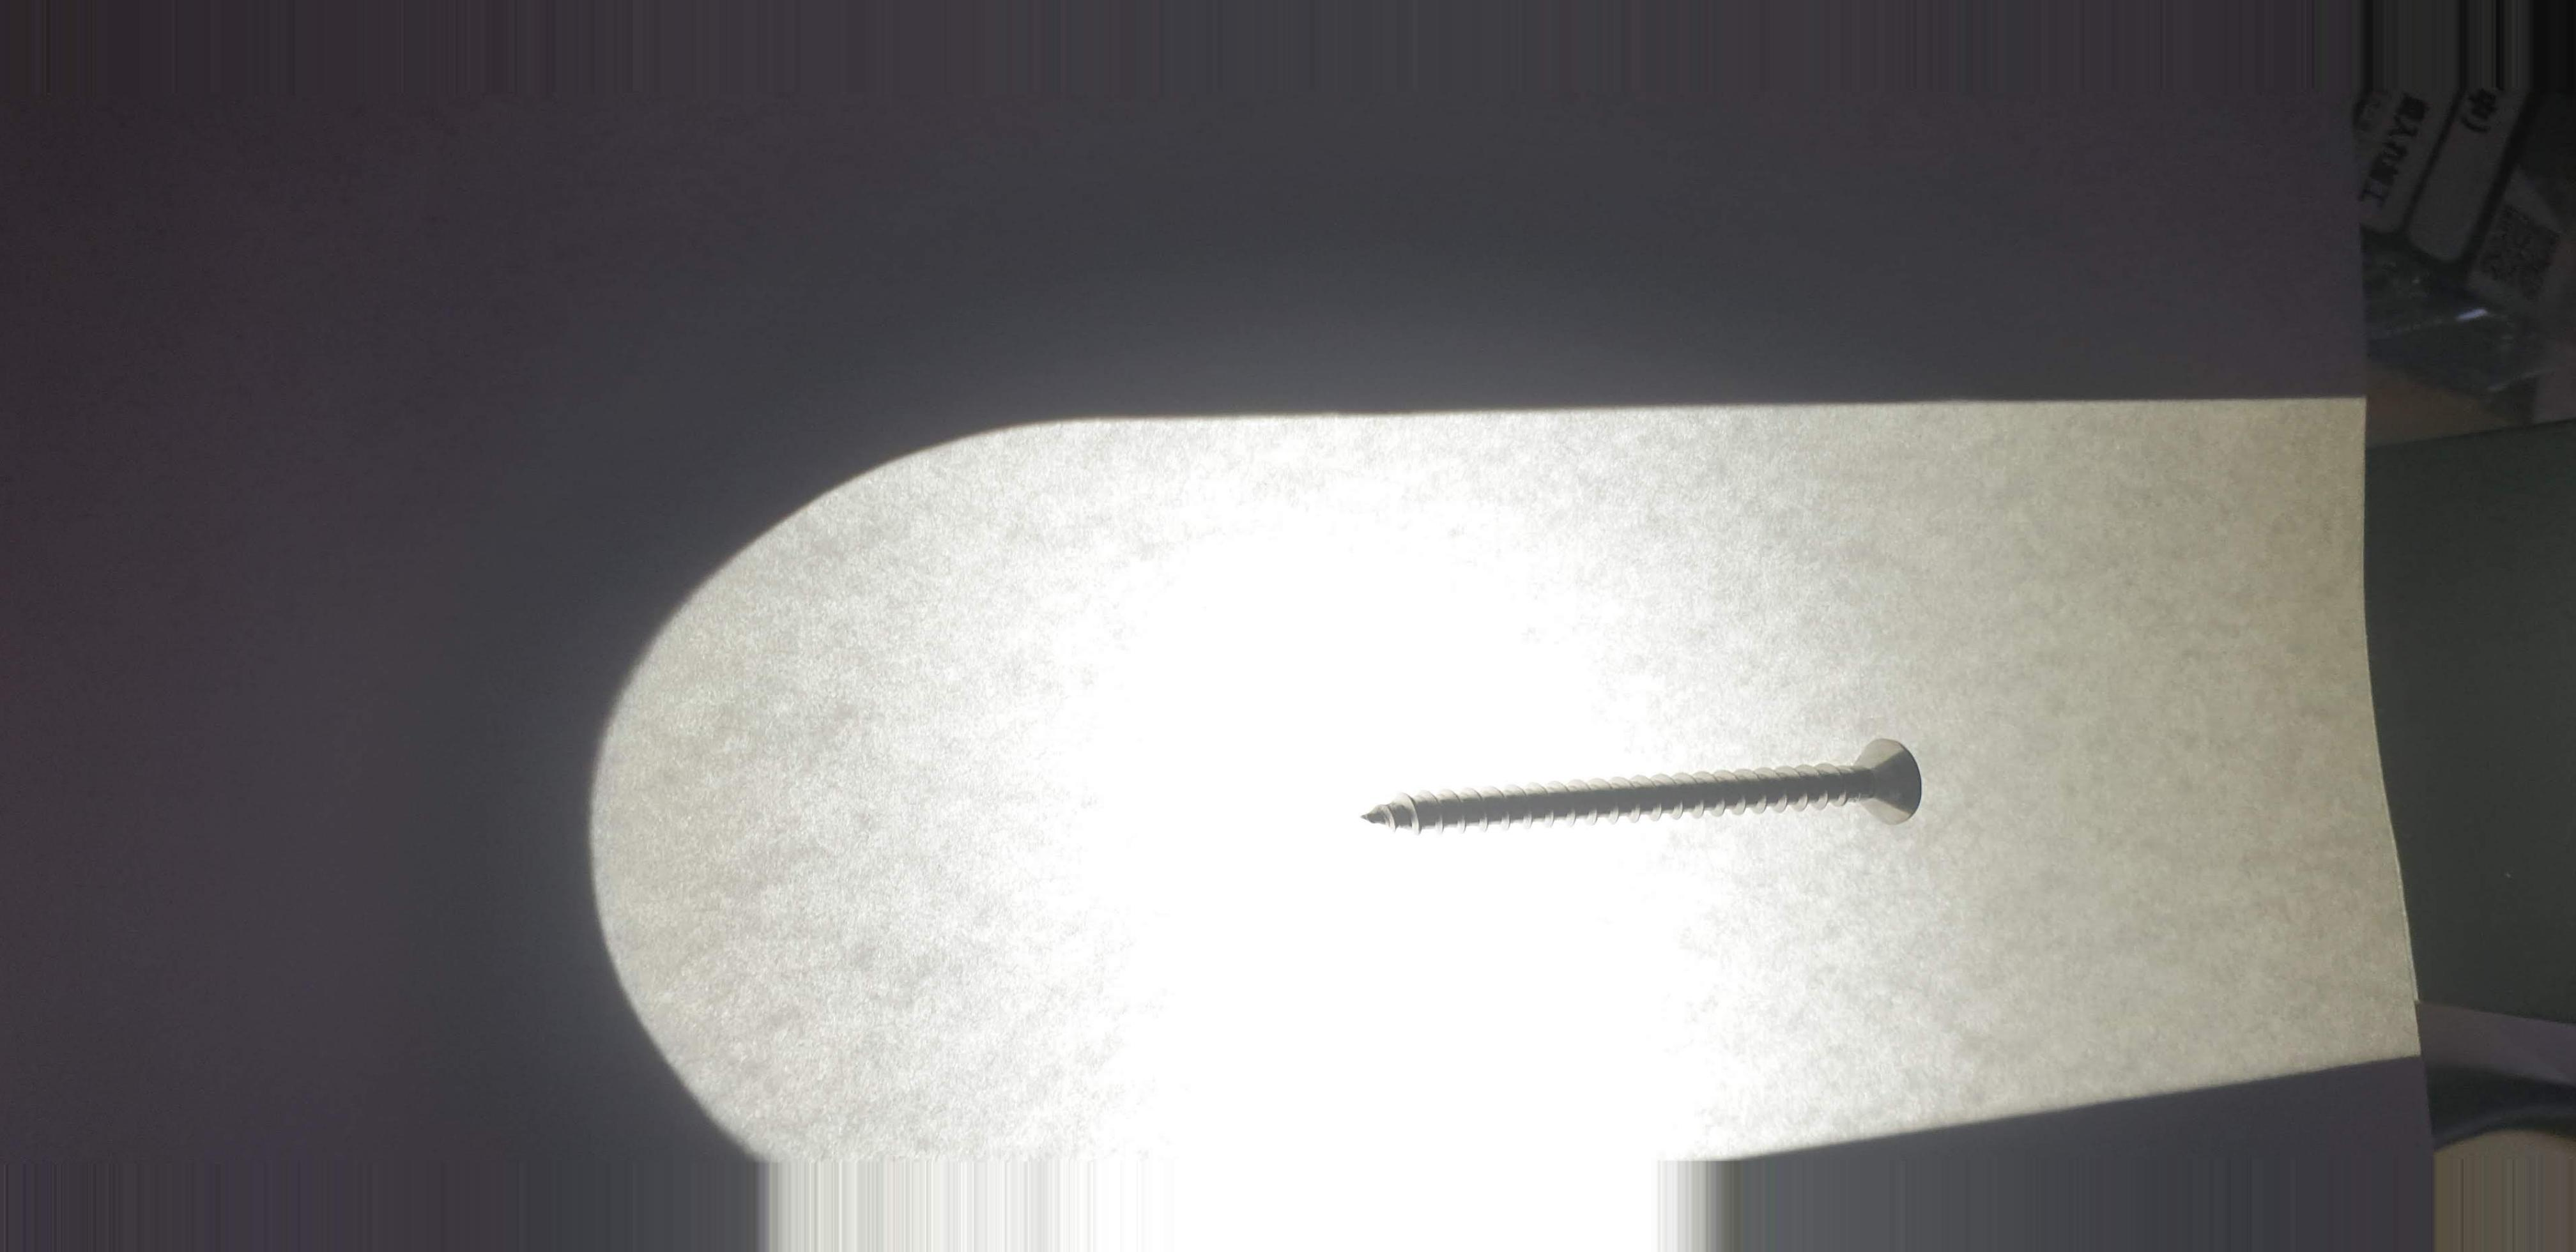S001: (1308, 713, 1993, 868)
